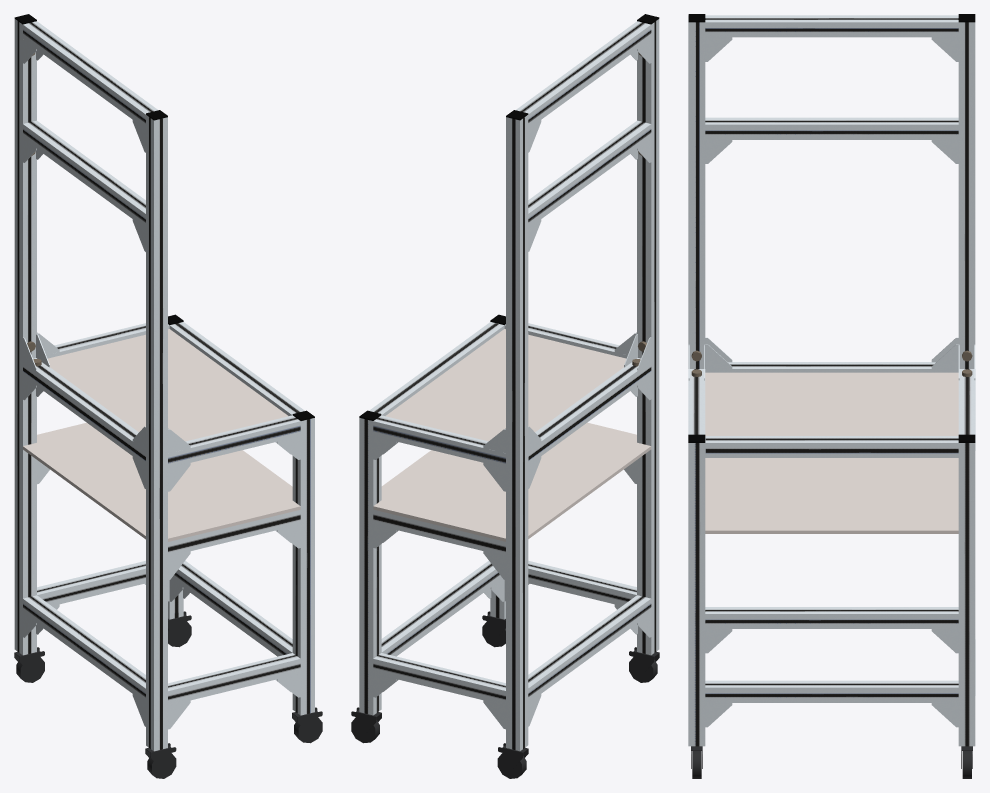
File: zhiwu_1.FBX
The picture shows the model from 3 angles, left to right: view 1: azimuth 30°, elevation 25°; view 2: azimuth 150°, elevation 25°; view 3: azimuth 270°, elevation 25°; orthographic projection. The views are drawn at different scales.
Parts seen in each view (by area): view 1: YF_Model_zhiwu_1; view 2: YF_Model_zhiwu_1; view 3: YF_Model_zhiwu_1.
Boxes of the visible parts, box(x1,y1,x2,y2) form: YF_Model_zhiwu_1: box(14, 14, 322, 778); YF_Model_zhiwu_1: box(351, 14, 659, 778); YF_Model_zhiwu_1: box(688, 14, 975, 778).
Size of the model in its own units: 42.88 by 158 by 60.04.
